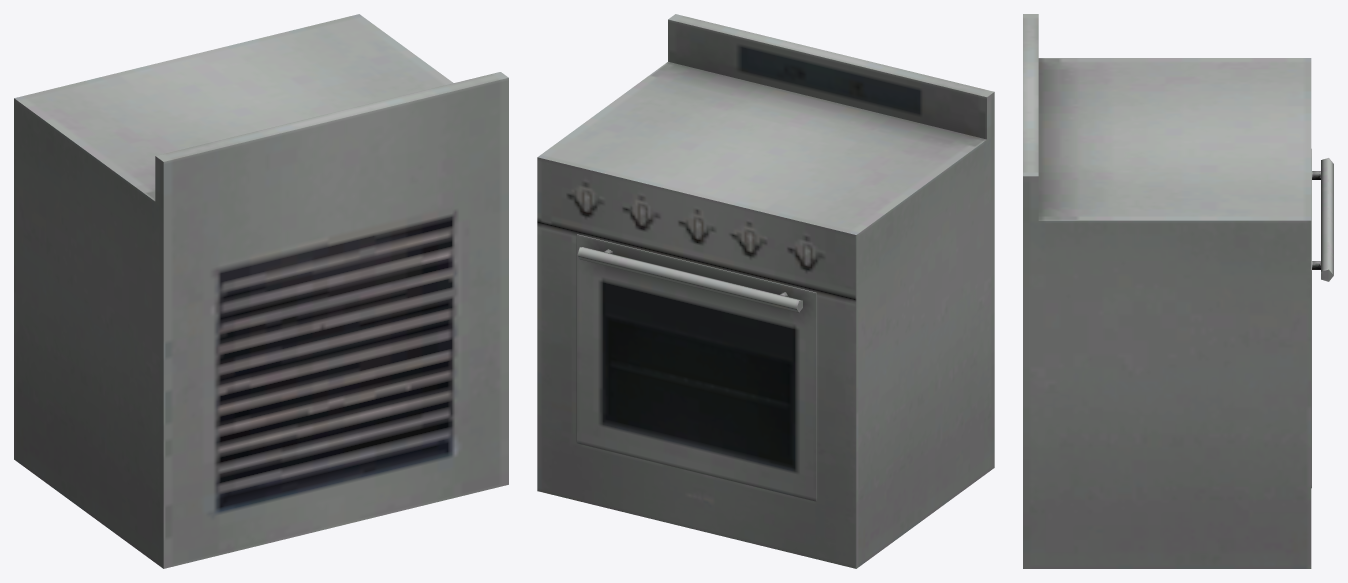
Rendered from furni_0200423.FBX.
3 renders of one model, left to right at view 1: azimuth 30°, elevation 25°; view 2: azimuth 150°, elevation 25°; view 3: azimuth 270°, elevation 25°, orthographic. The views are drawn at different scales.
Parts seen in each view (by area): view 1: furni_0200423; view 2: furni_0200423; view 3: furni_0200423.
Part boxes in pixels (box(x1,y1,x2,y2)): furni_0200423: box(14, 14, 508, 568); furni_0200423: box(537, 14, 994, 568); furni_0200423: box(1023, 14, 1333, 568).
Size of the model in its own units: 80 by 90.11 by 64.68.
